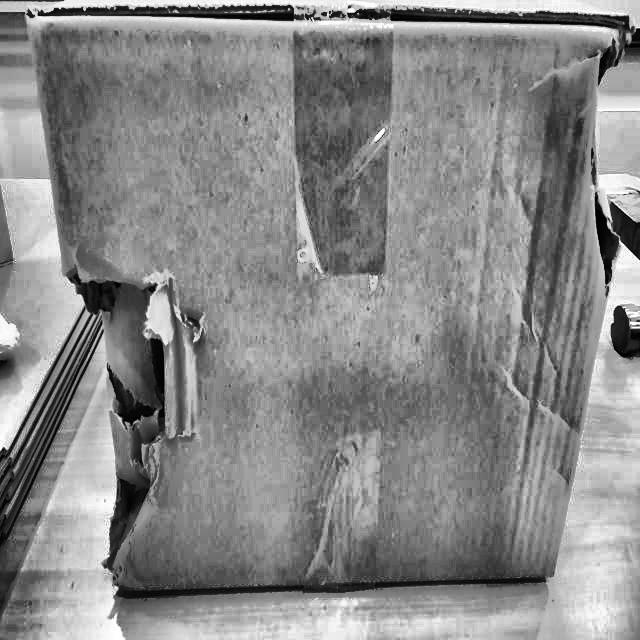box: (16, 0, 639, 611)
hole: (61, 250, 217, 592), (572, 19, 634, 287)
